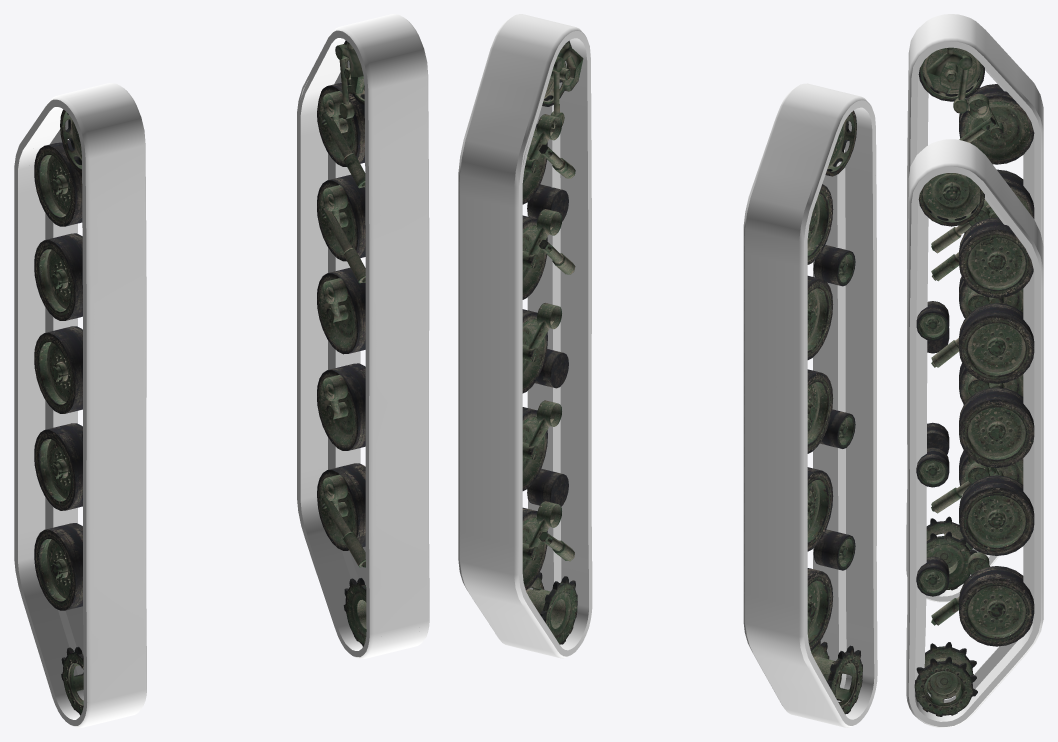
File: Chassis.glb
3 views of the same model, side by side, from view 1: azimuth 30°, elevation 25°; view 2: azimuth 150°, elevation 25°; view 3: azimuth 270°, elevation 25° (orthographic). The views are drawn at different scales.
Parts seen in each view (by area): view 1: set_1_group_0, set_0_group_0, set_3_group_0, set_2_group_0; view 2: set_1_group_0, set_0_group_0, set_3_group_0, set_2_group_0; view 3: set_3_group_0, set_0_group_0, set_2_group_0, set_1_group_0.
Part boxes in pixels (<box>): set_1_group_0: <box>14,83,146,727</box>; set_0_group_0: <box>297,14,429,658</box>; set_3_group_0: <box>317,40,366,646</box>; set_2_group_0: <box>34,109,83,715</box>; set_1_group_0: <box>743,83,877,727</box>; set_0_group_0: <box>458,14,592,658</box>; set_3_group_0: <box>522,40,583,644</box>; set_2_group_0: <box>807,110,862,714</box>; set_3_group_0: <box>914,173,1034,716</box>; set_0_group_0: <box>906,139,1043,727</box>; set_2_group_0: <box>918,47,1034,590</box>; set_1_group_0: <box>906,14,1043,602</box>.
Size of the model in its own units: 3.06 by 5.32 by 1.17.
4 materials, 2 textured.
